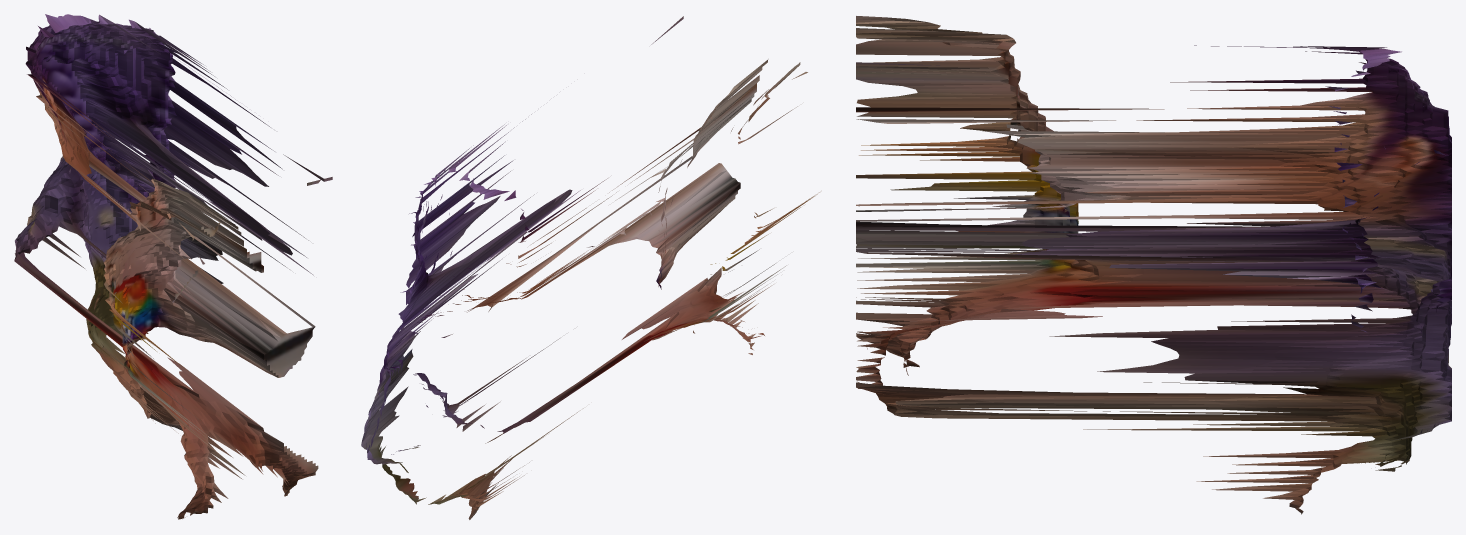
Rendered from frame_00277.glb.
The picture shows the model from 3 angles, left to right: view 1: azimuth 30°, elevation 25°; view 2: azimuth 150°, elevation 25°; view 3: azimuth 270°, elevation 25°; orthographic projection. The views are drawn at different scales.
Visible parts, largest first — view 1: geometry_0; view 2: geometry_0; view 3: geometry_0.
Boxes of the visible parts, x1=… form: geometry_0: x1=14, y1=14, x2=332, y2=519; geometry_0: x1=361, y1=16, x2=819, y2=519; geometry_0: x1=856, y1=16, x2=1451, y2=514.
Bounding box in the file's own units: 0.0852 × 0.1295 × 0.16.
Materials: 1 (1 with a texture image).
